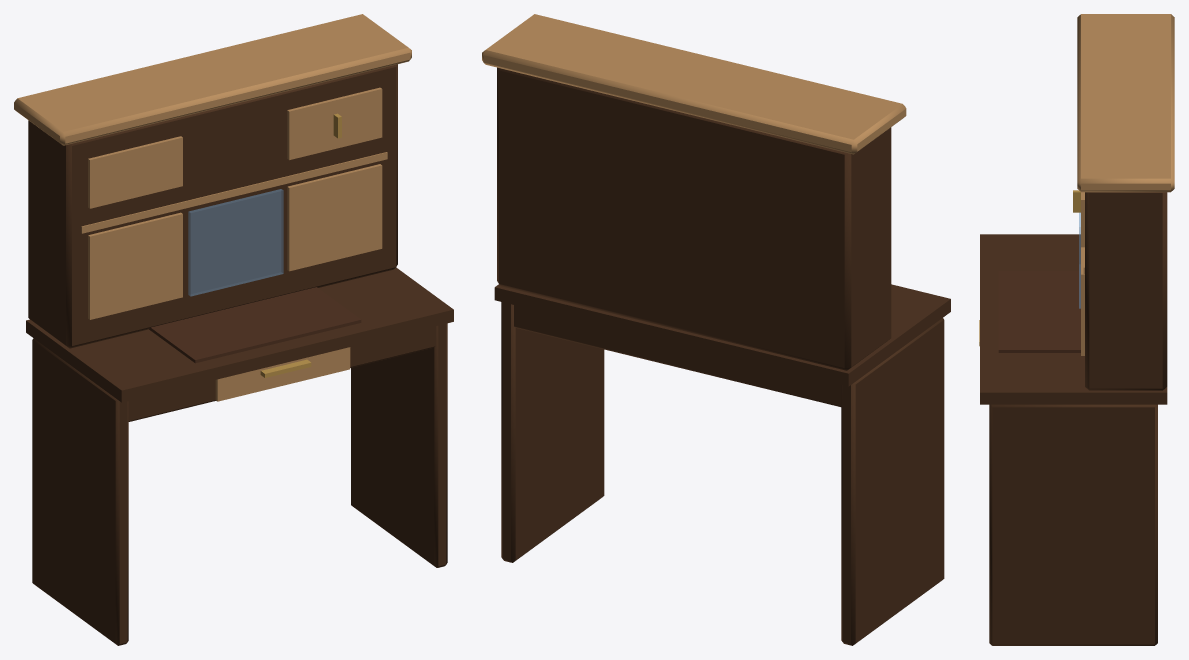
Rendered from desk_secretary_desk.glb.
3 views of the same model, side by side, from view 1: azimuth 30°, elevation 25°; view 2: azimuth 150°, elevation 25°; view 3: azimuth 270°, elevation 25° (orthographic). The views are drawn at different scales.
Parts seen in each view (by area): view 1: desk_secretary_desk; view 2: desk_secretary_desk; view 3: desk_secretary_desk.
Part boxes in pixels (<box>): desk_secretary_desk: <box>14,14,453,645</box>; desk_secretary_desk: <box>482,14,950,645</box>; desk_secretary_desk: <box>979,14,1174,645</box>.
Size of the model in its own units: 1.06 by 1.39 by 0.522.
